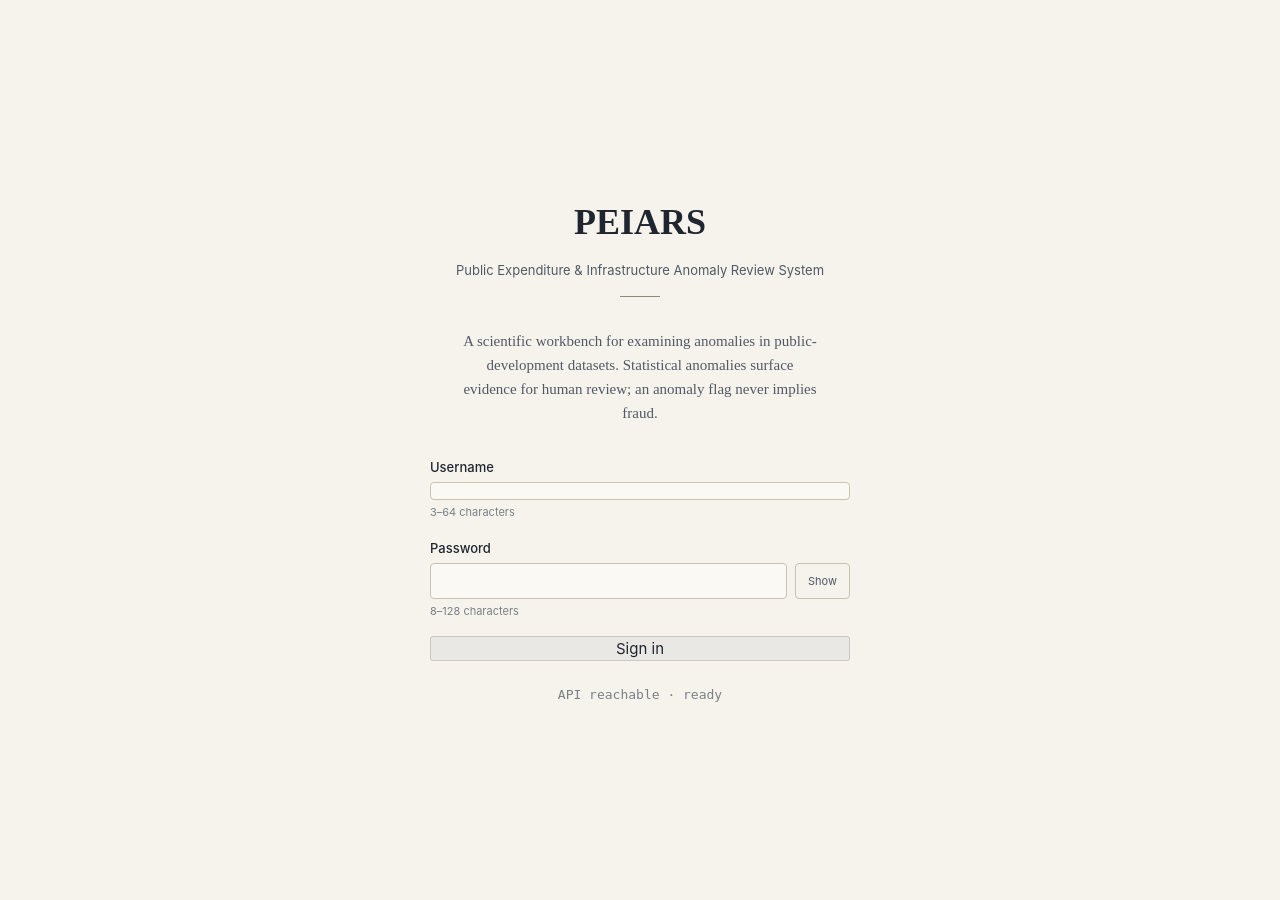
LoginPage form › bootstraps CSRF on submit and redirects to /overview on success
Type "alice" into the field labelled "Username" at [640, 491], box [430,482,850,500]
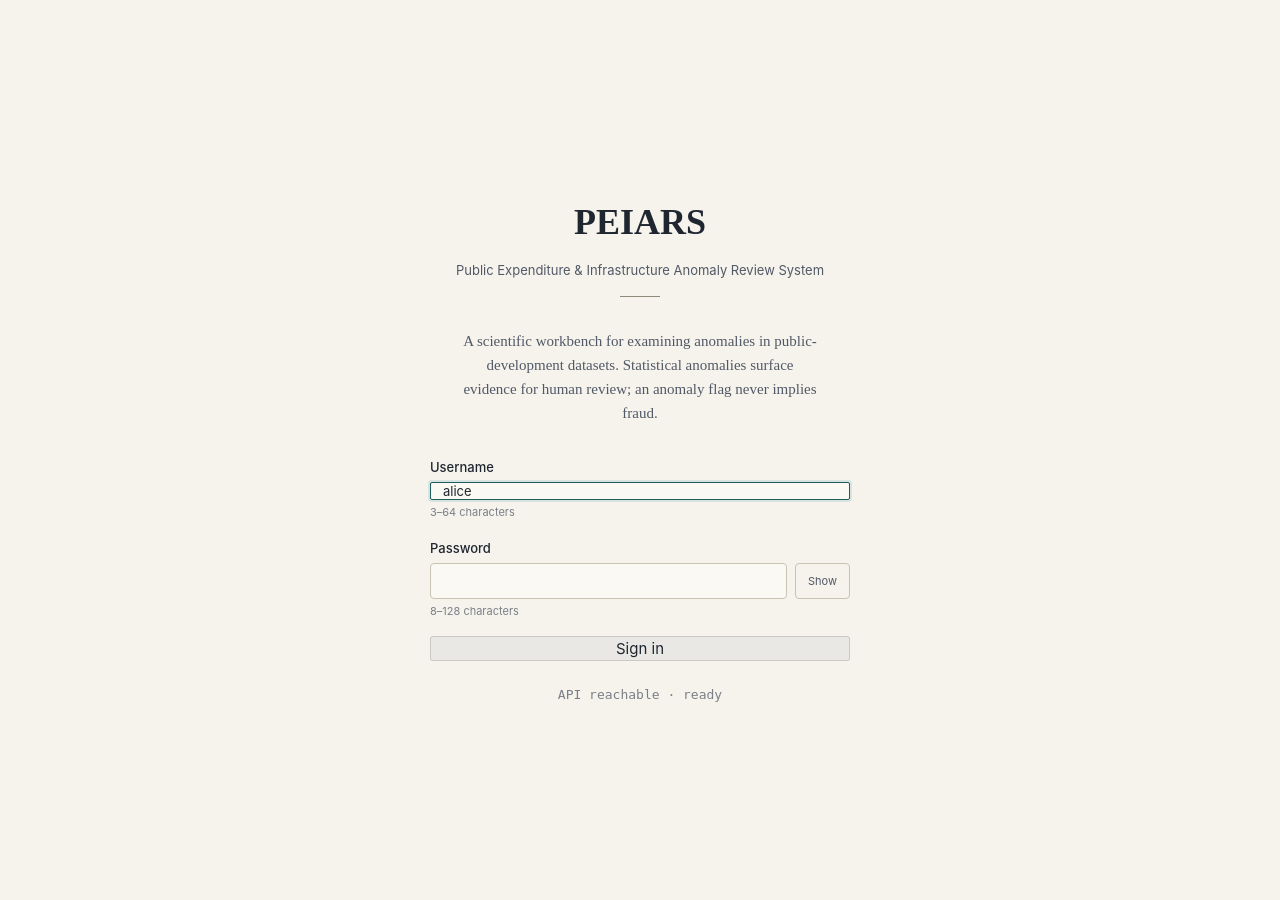
Type "supersecret" into the password field labelled "Password" at [608, 581], box [430,563,787,599]
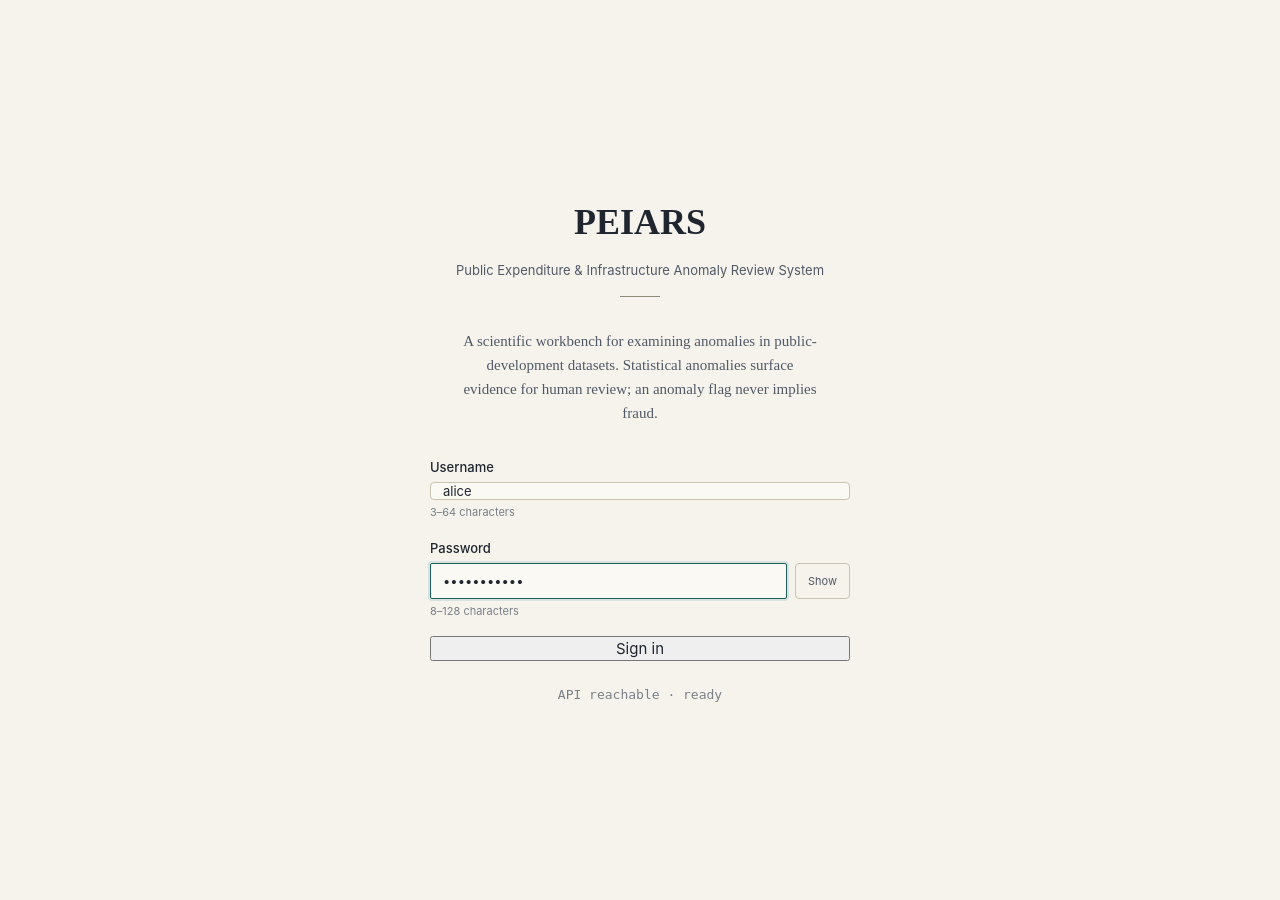
Click the button "Sign in" at [640, 649], box [430,636,850,661]
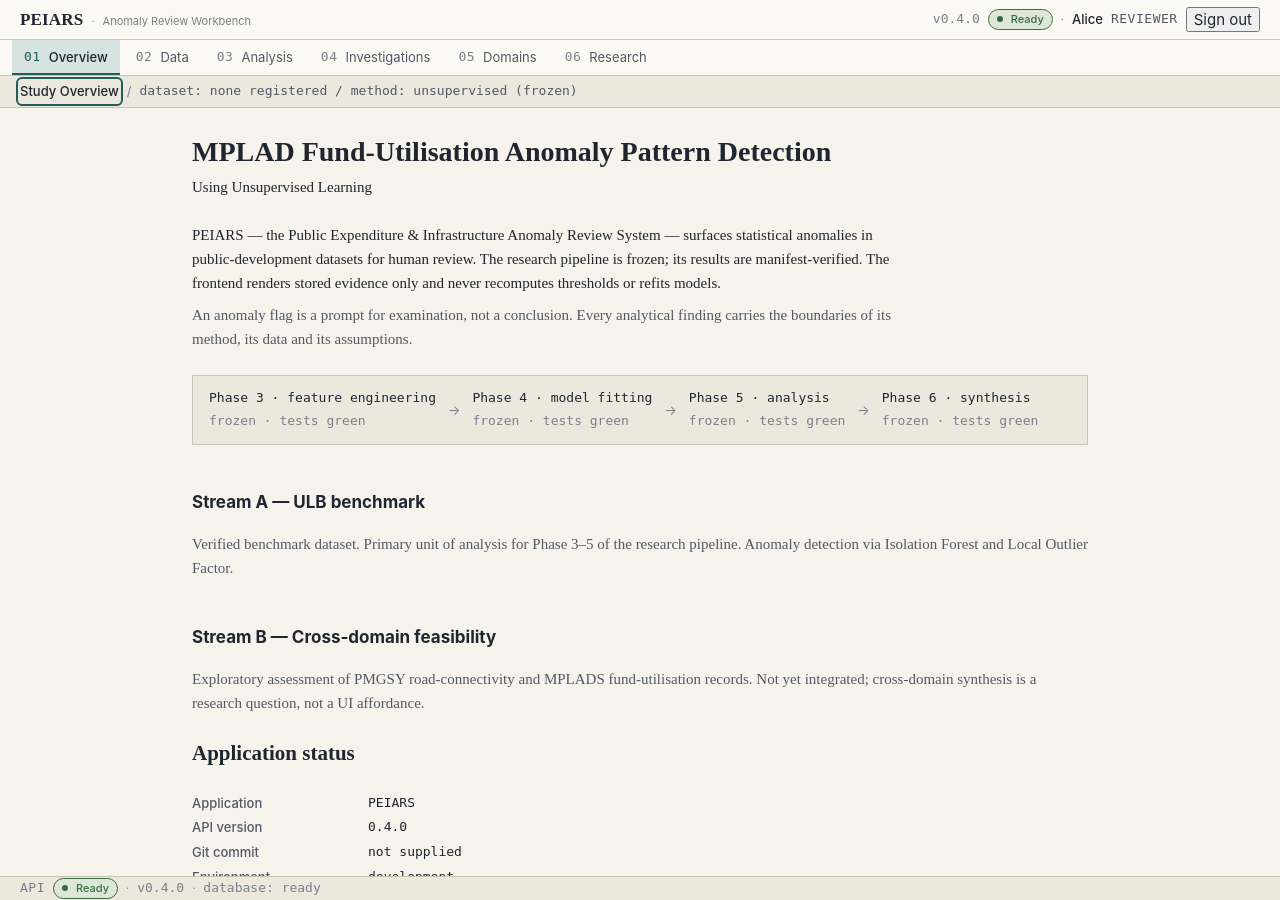
Now the heading "Study Overview" is shown, box [20,81,119,102]
